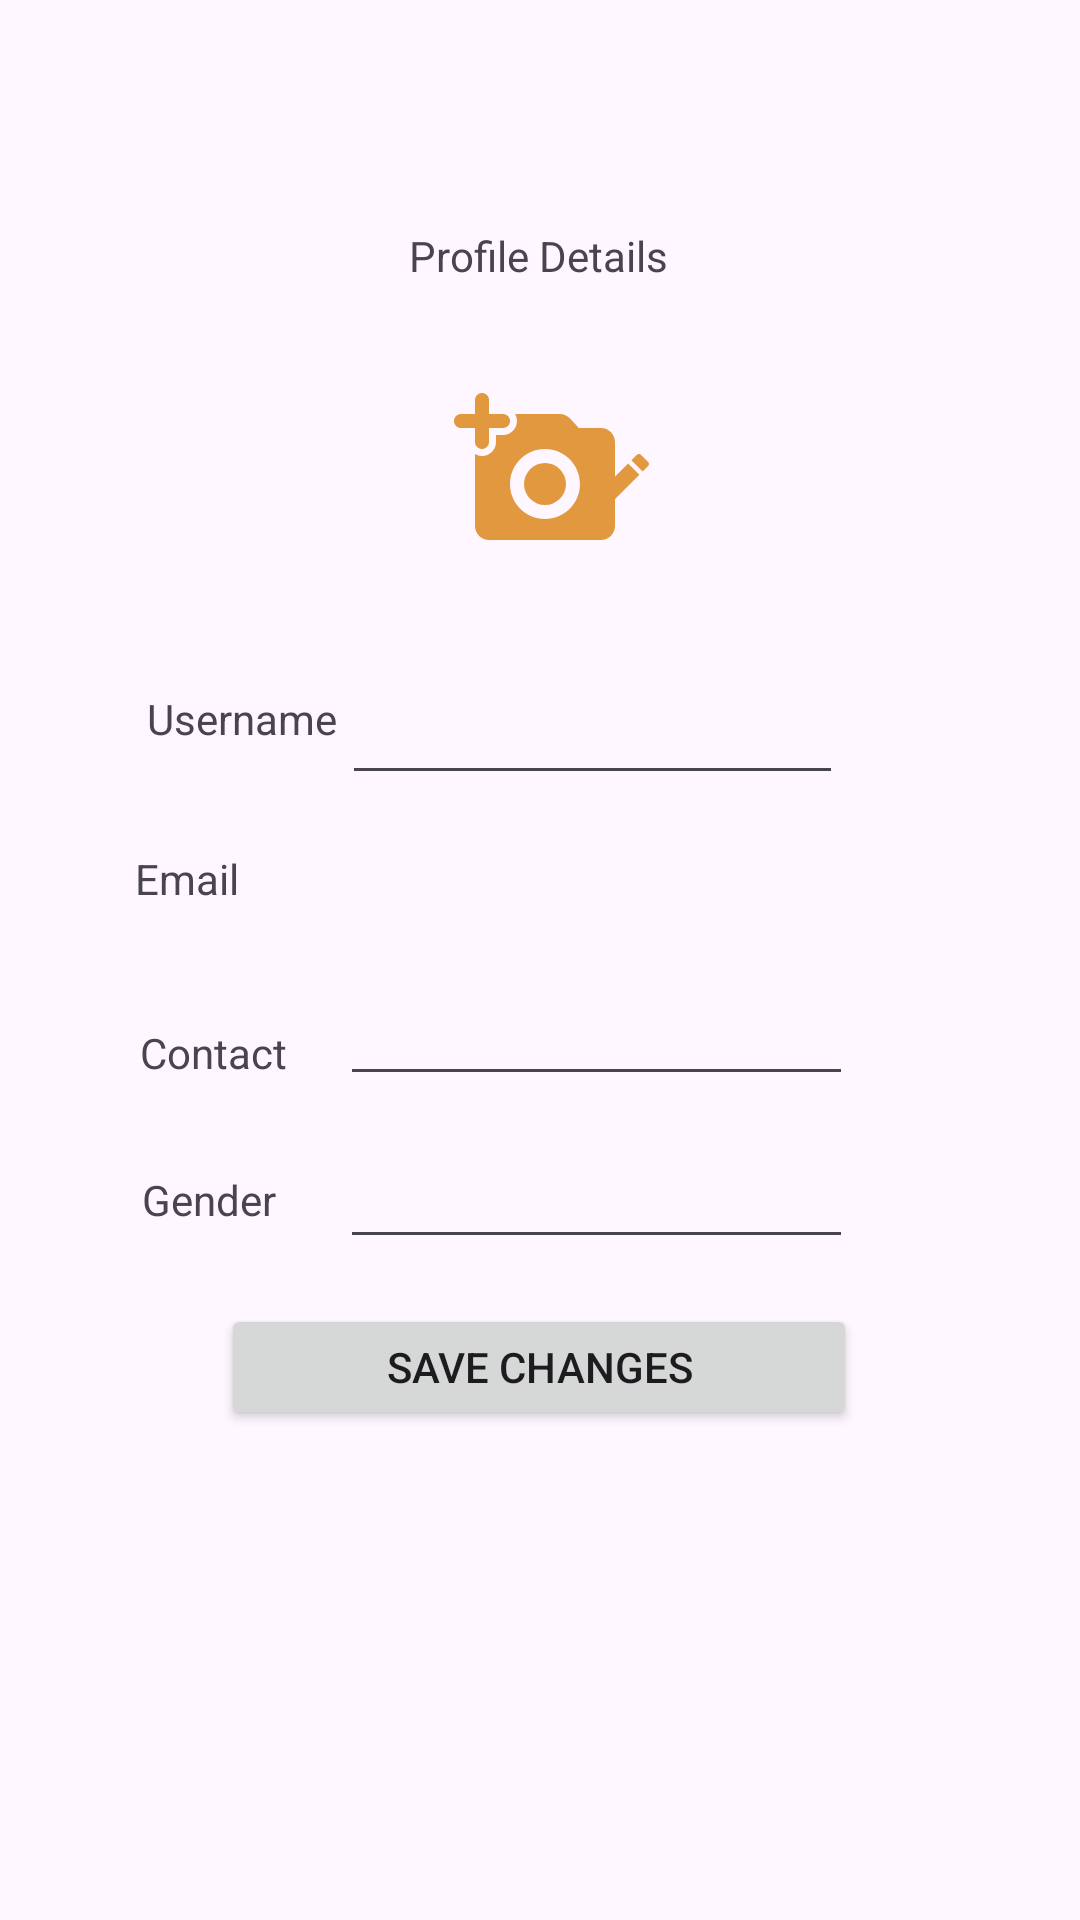

Named icons in this screenshot (1080px×1920px) and their bounding boxes, (x1, y1, x2, y2):
add photo: (454, 393, 622, 540)
